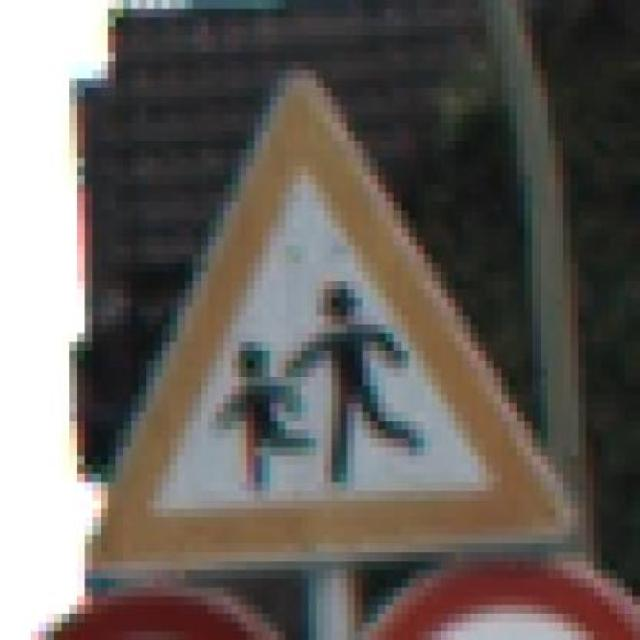Beware of children: (62, 52, 586, 588)
